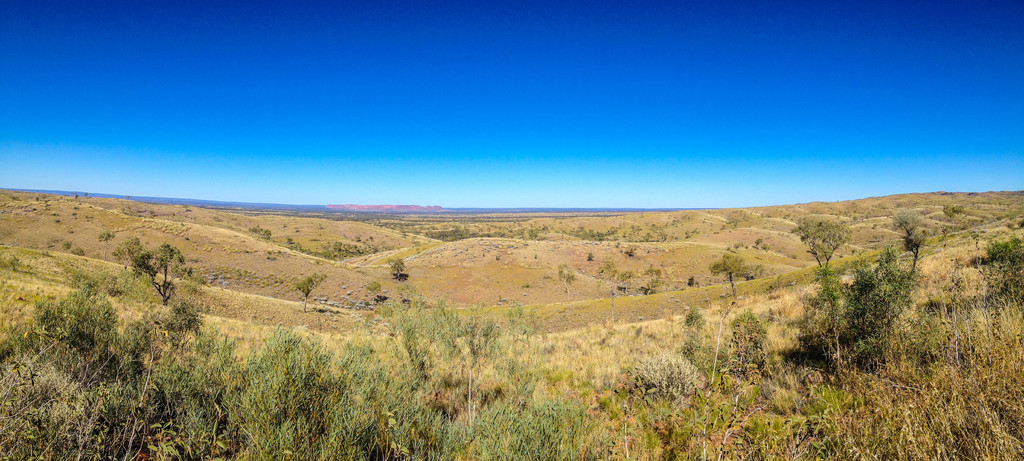Tree: (122, 230, 188, 312), (787, 218, 855, 267), (705, 252, 764, 301), (594, 260, 633, 325), (293, 271, 325, 313), (890, 208, 924, 241), (554, 260, 576, 303), (640, 266, 665, 295), (98, 233, 115, 262), (387, 256, 404, 276)
